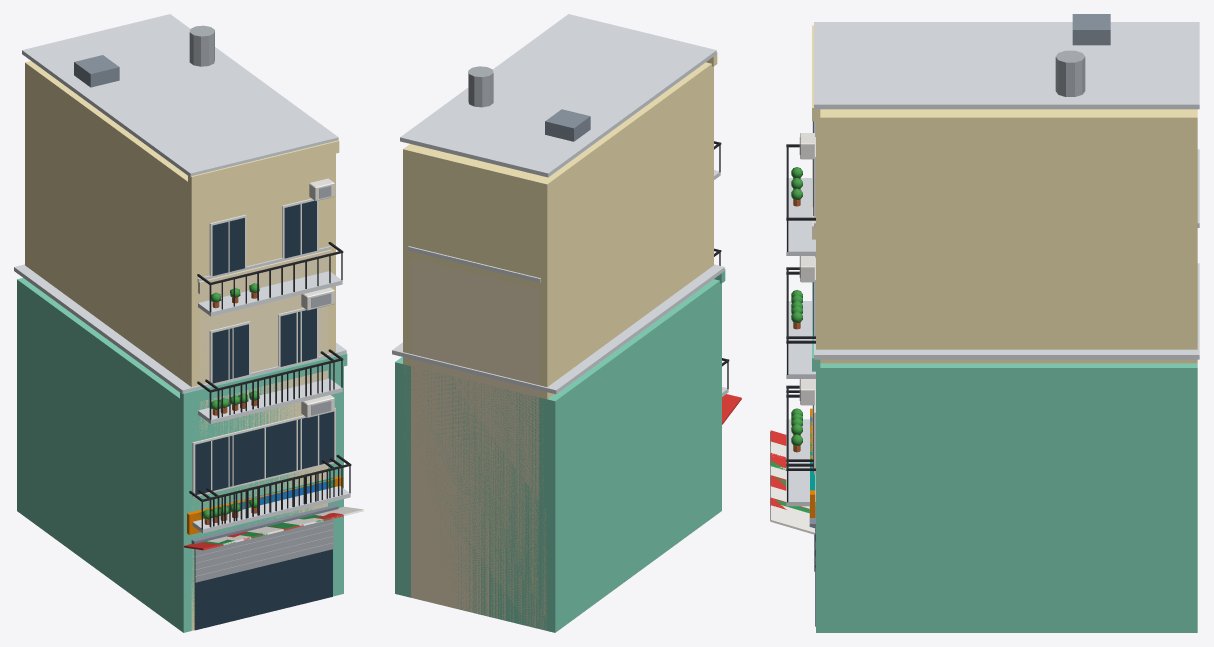
The model's file is env.glb.
The picture shows the model from 3 angles, left to right: view 1: azimuth 30°, elevation 25°; view 2: azimuth 150°, elevation 25°; view 3: azimuth 270°, elevation 25°; orthographic projection. The views are drawn at different scales.
Visible parts, largest first — view 1: EN_House_C, EN_House_B, EN_House_A, EN_House_D; view 2: EN_House_C, EN_House_B, EN_House_A; view 3: EN_House_C, EN_House_B, EN_House_A, EN_House_D.
Part boxes in pixels (left/top/right/bottom): EN_House_C: left=22, top=14, right=343, bottom=630; EN_House_B: left=14, top=264, right=363, bottom=632; EN_House_A: left=197, top=246, right=335, bottom=626; EN_House_D: left=203, top=511, right=347, bottom=545; EN_House_C: left=400, top=14, right=721, bottom=630; EN_House_B: left=392, top=264, right=741, bottom=632; EN_House_A: left=408, top=246, right=540, bottom=627; EN_House_C: left=786, top=14, right=1199, bottom=519; EN_House_B: left=770, top=263, right=1199, bottom=632; EN_House_A: left=786, top=149, right=1199, bottom=461; EN_House_D: left=770, top=440, right=809, bottom=522.
Size of the model in its own units: 5.12 by 14.9 by 10.13.
1 material, 1 textured.
